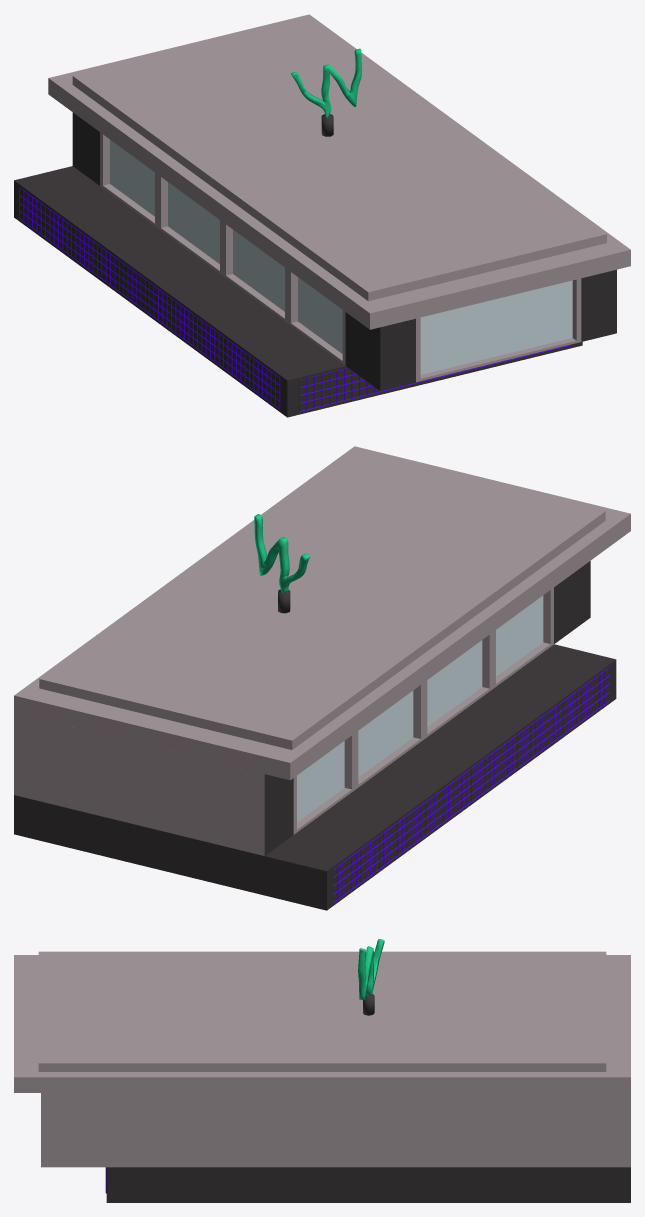
Rendered from roofStore.fbx.
3 views of the same model, one above another, from view 1: azimuth 30°, elevation 25°; view 2: azimuth 150°, elevation 25°; view 3: azimuth 270°, elevation 25° (orthographic). The views are drawn at different scales.
Visible parts, largest first — view 1: Plane.003; view 2: Plane.003; view 3: Plane.003.
Part boxes in pixels (box(x1,y1,x2,y2)): Plane.003: box(14, 14, 630, 417); Plane.003: box(14, 446, 630, 910); Plane.003: box(14, 939, 630, 1202).
Size of the model in its own units: 250 by 178 by 471.
